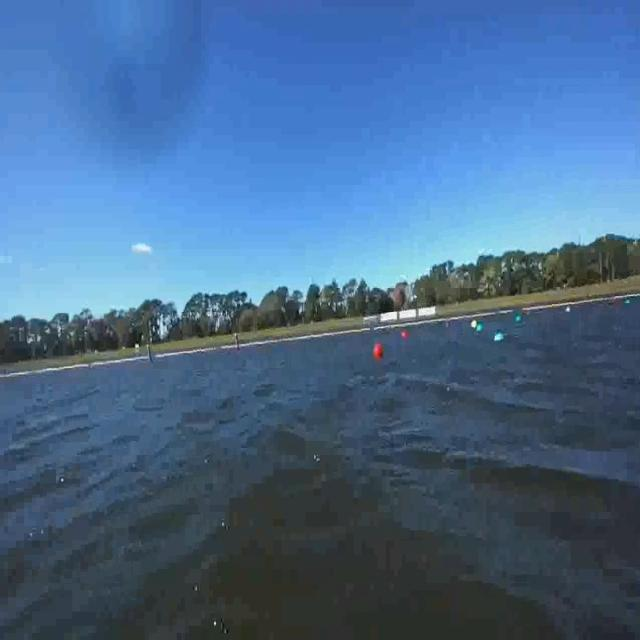green-buoy: (514, 311, 524, 329), (493, 332, 505, 346), (475, 324, 486, 335)
red-buoy: (375, 343, 384, 360), (401, 330, 407, 338)
